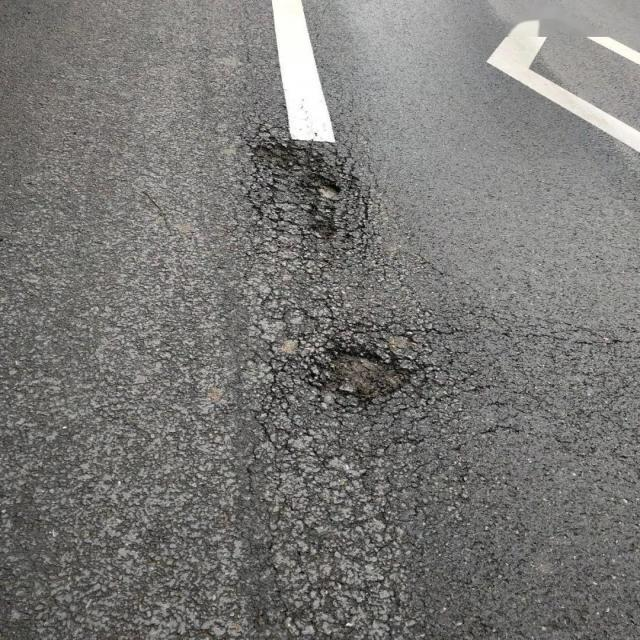pothole: (249, 142, 351, 251), (305, 342, 412, 407)
